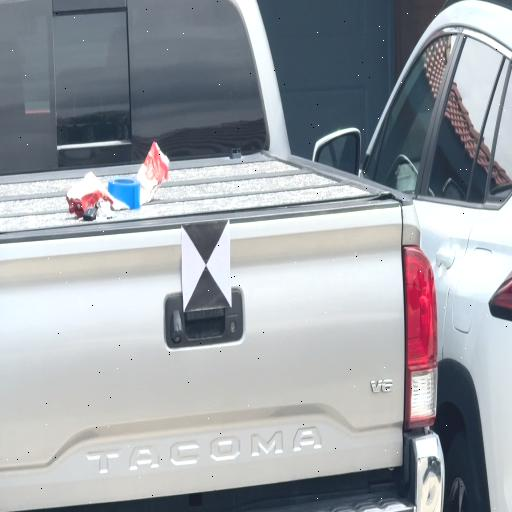target: (182, 220, 232, 312)
